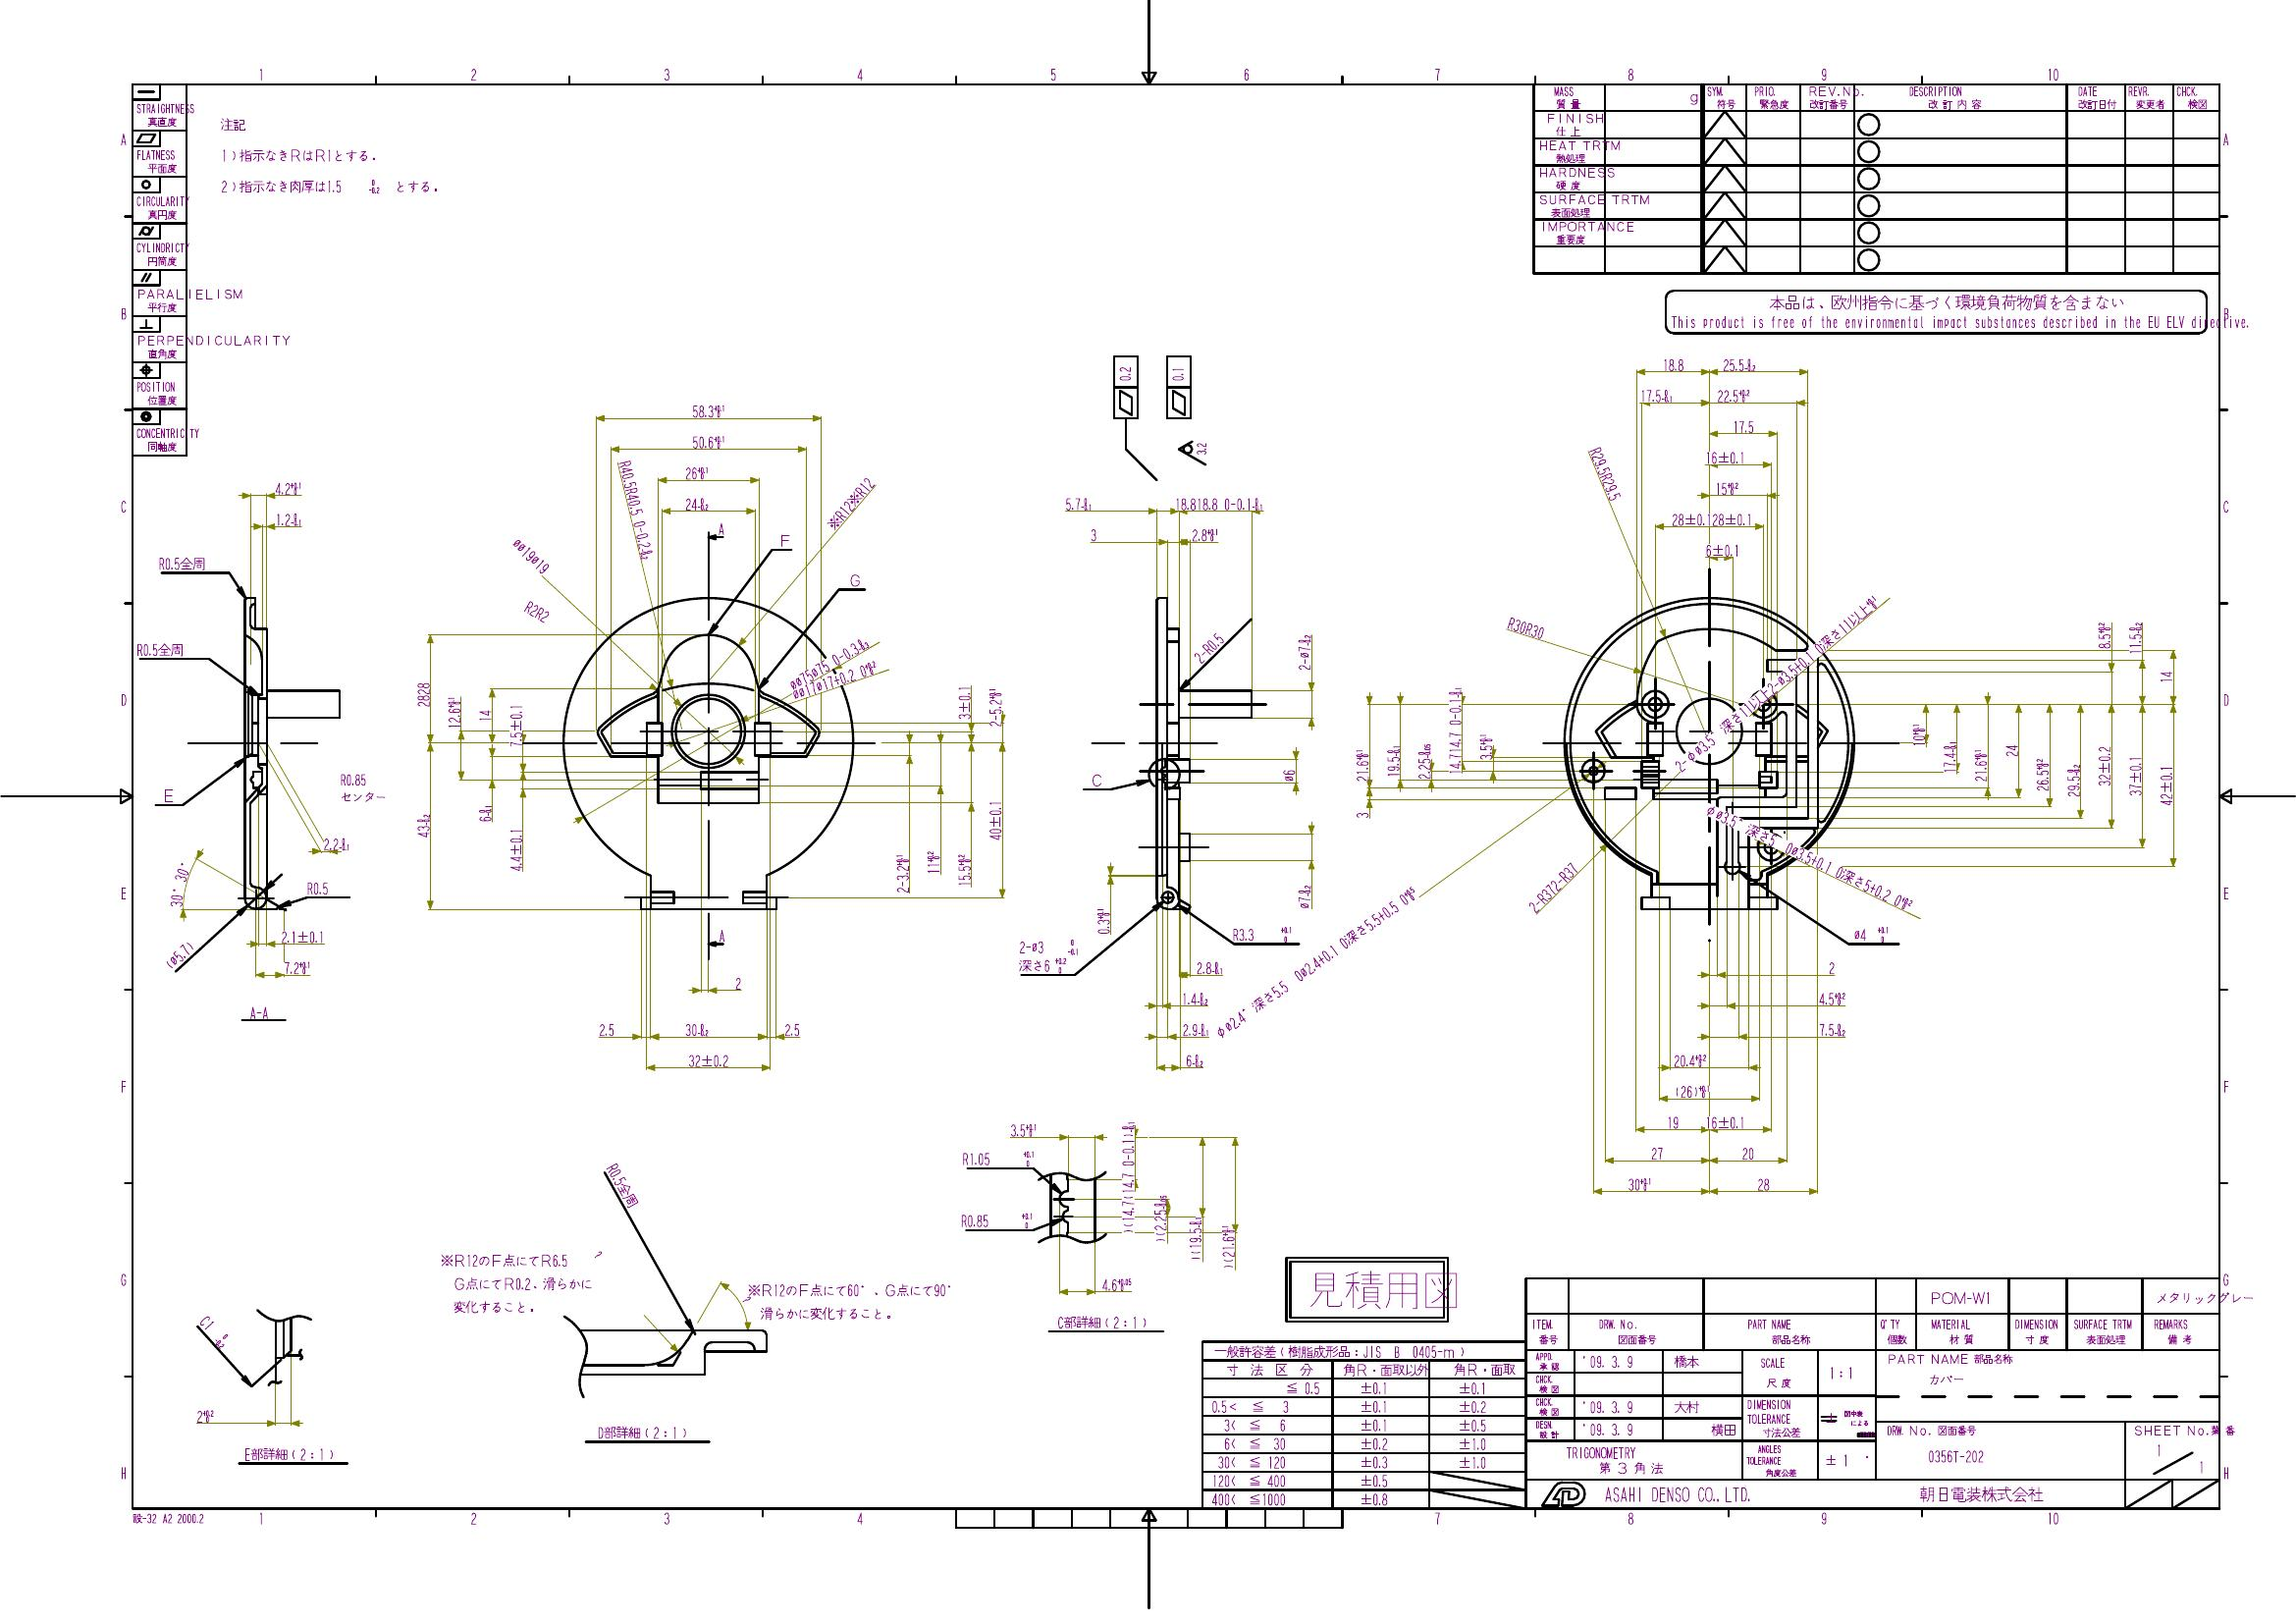anntotation_text: (1664, 288, 2208, 334), (214, 112, 446, 197), (1284, 1257, 1449, 1320), (439, 1250, 592, 1315), (748, 1283, 954, 1320), (597, 1422, 687, 1439), (244, 1446, 337, 1461), (1056, 1315, 1145, 1329), (132, 1512, 206, 1526), (341, 791, 388, 803), (179, 557, 207, 571), (158, 642, 183, 657), (620, 1183, 636, 1207), (248, 1005, 271, 1018), (778, 531, 792, 547), (847, 573, 863, 587), (162, 786, 176, 801), (1091, 773, 1103, 786), (715, 522, 727, 534), (717, 928, 726, 942)
dimension_text: (1193, 956, 1440, 970), (1646, 677, 1910, 689), (1697, 851, 1924, 863), (1017, 939, 1079, 974), (629, 457, 645, 559), (1121, 1121, 1135, 1234), (959, 1209, 1033, 1229), (961, 1151, 1036, 1167), (782, 656, 875, 668), (1173, 497, 1263, 510), (791, 673, 880, 685), (1449, 685, 1462, 773), (1672, 513, 1753, 526), (1231, 926, 1291, 942), (843, 473, 857, 534), (1599, 445, 1613, 501), (1521, 881, 1583, 893), (279, 928, 325, 944), (1152, 1193, 1166, 1243), (1852, 924, 1890, 942), (508, 828, 522, 874), (508, 548, 553, 562), (508, 705, 523, 745), (2157, 765, 2173, 805), (197, 1322, 232, 1339), (1188, 1216, 1202, 1260), (1221, 1225, 1235, 1267), (172, 865, 186, 907), (2127, 756, 2141, 798), (2097, 743, 2112, 786), (989, 685, 1003, 726), (689, 1053, 729, 1067), (1354, 747, 1370, 782), (692, 402, 727, 418), (2034, 756, 2050, 791), (1708, 450, 1746, 464), (1507, 620, 1546, 634), (989, 798, 1001, 842), (1973, 749, 1989, 782), (1941, 740, 1957, 773), (1416, 742, 1430, 779), (1298, 633, 1310, 673), (896, 852, 908, 893), (1722, 357, 1757, 371), (690, 434, 726, 448), (2066, 763, 2080, 798), (1672, 1053, 1708, 1067), (1706, 1116, 1744, 1128), (446, 696, 460, 729), (957, 685, 971, 719), (957, 852, 971, 886), (2127, 620, 2141, 654), (1676, 1084, 1709, 1098), (1706, 543, 1739, 557), (274, 510, 302, 526), (272, 480, 304, 494), (1384, 743, 1398, 775), (163, 947, 195, 961), (1191, 642, 1226, 654), (1716, 388, 1751, 401), (339, 772, 369, 786), (415, 812, 430, 838), (415, 680, 430, 707), (683, 464, 710, 480), (1008, 1123, 1036, 1137), (1096, 907, 1110, 935), (1477, 731, 1491, 759), (283, 960, 311, 974), (1641, 388, 1672, 401), (1100, 1278, 1131, 1290), (1191, 527, 1217, 541), (1195, 961, 1223, 974), (323, 837, 348, 851), (2097, 620, 2110, 649), (1911, 722, 1925, 747), (1818, 991, 1846, 1004), (1818, 1023, 1846, 1035), (1627, 1178, 1651, 1192), (1182, 1023, 1209, 1035), (1182, 991, 1209, 1004), (1065, 497, 1091, 510), (523, 605, 550, 617), (306, 881, 329, 895), (156, 555, 179, 569), (478, 801, 492, 824), (926, 851, 940, 874), (1716, 482, 1739, 496), (1298, 884, 1310, 909), (683, 497, 708, 510), (683, 1023, 708, 1035), (1664, 357, 1685, 371), (135, 642, 156, 656), (604, 1167, 627, 1179), (1734, 420, 1755, 432), (1117, 366, 1133, 381), (597, 1023, 615, 1037), (197, 1408, 214, 1422), (1170, 366, 1184, 381), (1739, 1146, 1755, 1160), (1757, 1178, 1773, 1192), (1184, 1055, 1202, 1067), (783, 1023, 801, 1035), (2159, 668, 2173, 682), (2004, 743, 2018, 758), (1650, 1146, 1664, 1160), (478, 708, 490, 724), (1665, 1116, 1681, 1128), (1196, 438, 1207, 455), (1282, 768, 1295, 782), (734, 977, 743, 991), (1089, 529, 1098, 541), (1356, 810, 1368, 819), (1827, 961, 1836, 974)
object: (1563, 598, 1855, 909), (597, 634, 820, 805), (1154, 596, 1253, 910), (242, 598, 339, 909), (564, 1316, 766, 1397), (1038, 1171, 1107, 1244), (255, 1308, 311, 1357)
title_block: (1200, 1278, 2219, 1512), (1530, 84, 2220, 276), (132, 84, 186, 457)
